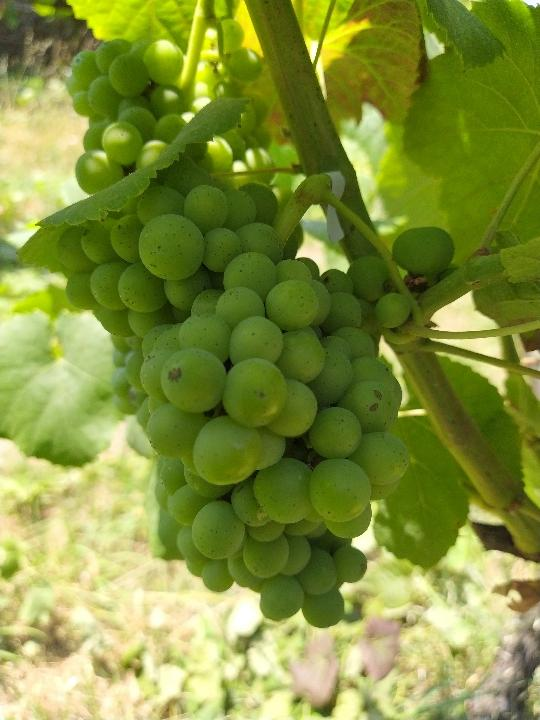grape: (56, 152, 456, 632)
